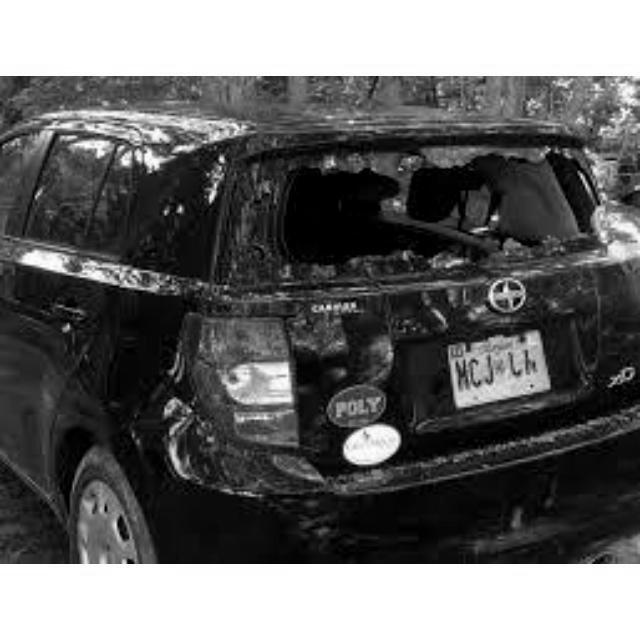Rear-windscreen-Damage: (209, 104, 637, 323)
